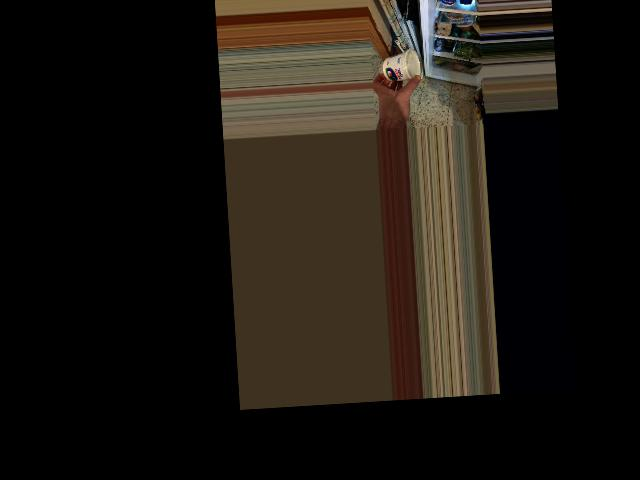cotage: (383, 48, 421, 85)
